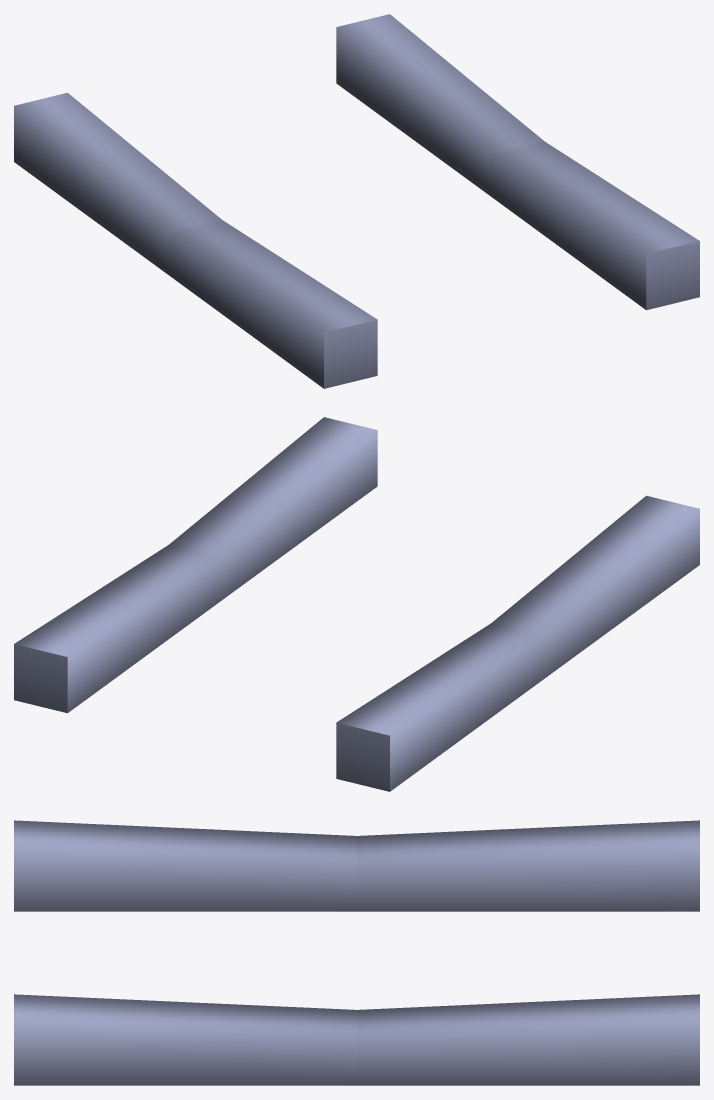
The model's file is spline-track-damaged.glb.
3 renders of one model, top to bottom at view 1: azimuth 30°, elevation 25°; view 2: azimuth 150°, elevation 25°; view 3: azimuth 270°, elevation 25°, orthographic. The views are drawn at different scales.
Visible parts, largest first — view 1: spline-track-damaged; view 2: spline-track-damaged; view 3: spline-track-damaged.
Part boxes in pixels (<box>): spline-track-damaged: <box>14,14,699,388</box>; spline-track-damaged: <box>14,417,699,791</box>; spline-track-damaged: <box>14,820,699,1085</box>.
Size of the model in its own units: 0.7 by 0.1 by 1.
